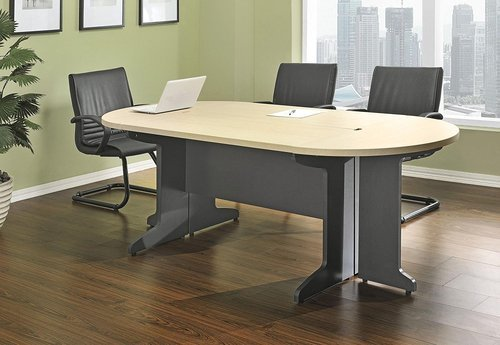conference_table: (102, 99, 460, 305)
